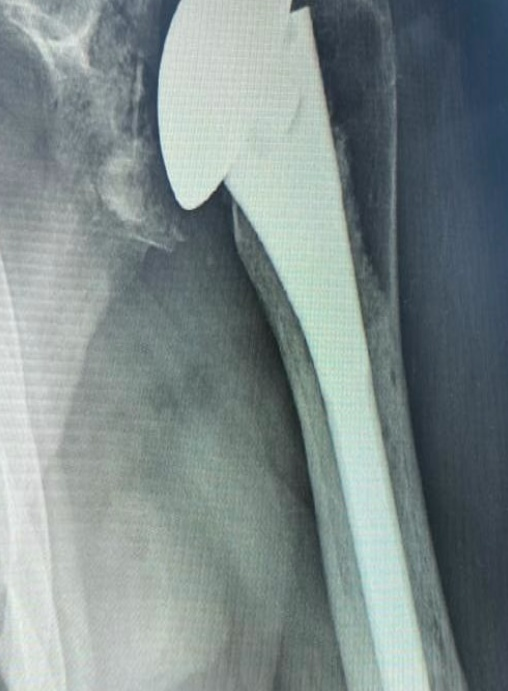Shoulder - Anotomical - Stryker: (149, 1, 363, 217)
